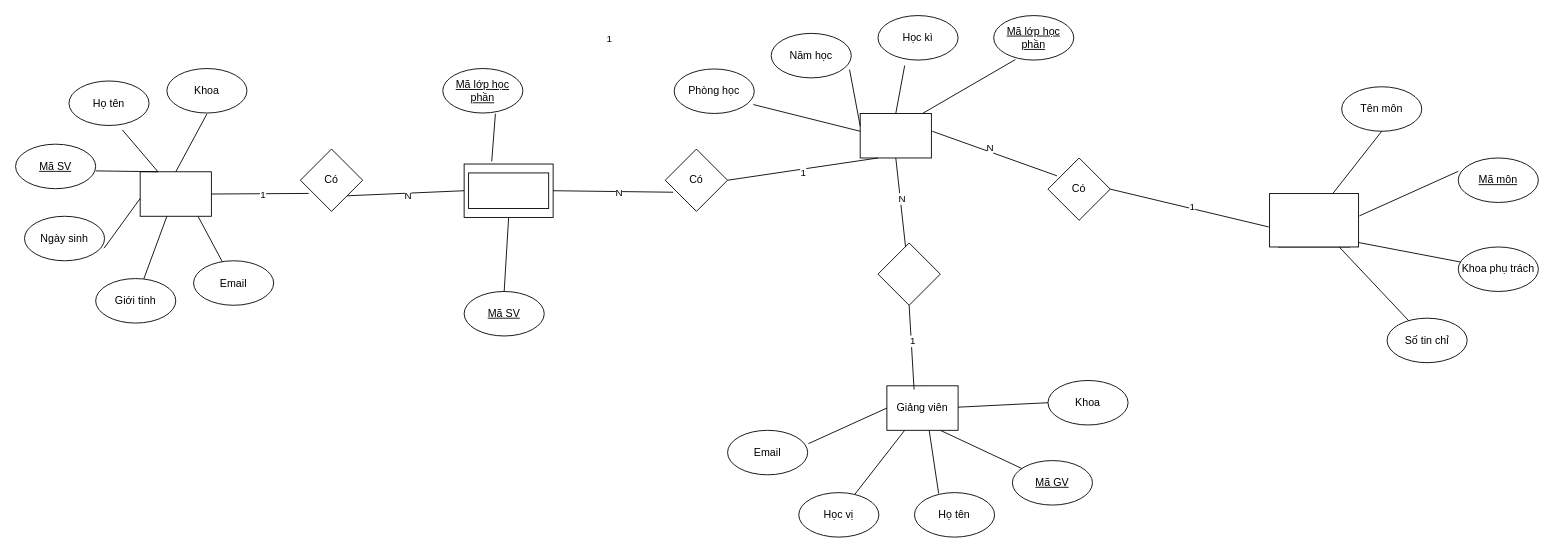
Some shapes in this 1554 by 553 pixel diagram are drawn without their labels. Here are the shapes that lost their labels. From the top down, the centre of each, then its label:
pixel 895 135: Lớp học phần
pixel 175 193: Sinh viên
pixel 508 190: Đăng kí
pixel 1314 220: Môn học
pixel 908 273: Dạy
